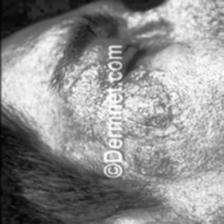Toxin: (134, 120, 168, 148)
